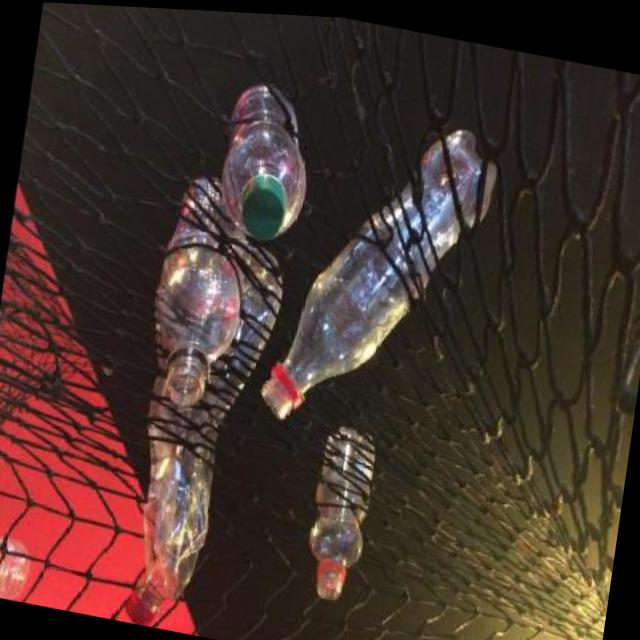plastic: (254, 95, 500, 459), (117, 227, 288, 640), (139, 165, 257, 418), (210, 74, 318, 248), (296, 418, 379, 611), (0, 525, 32, 603)
